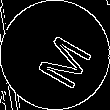M_NW: (22, 22, 88, 88)
